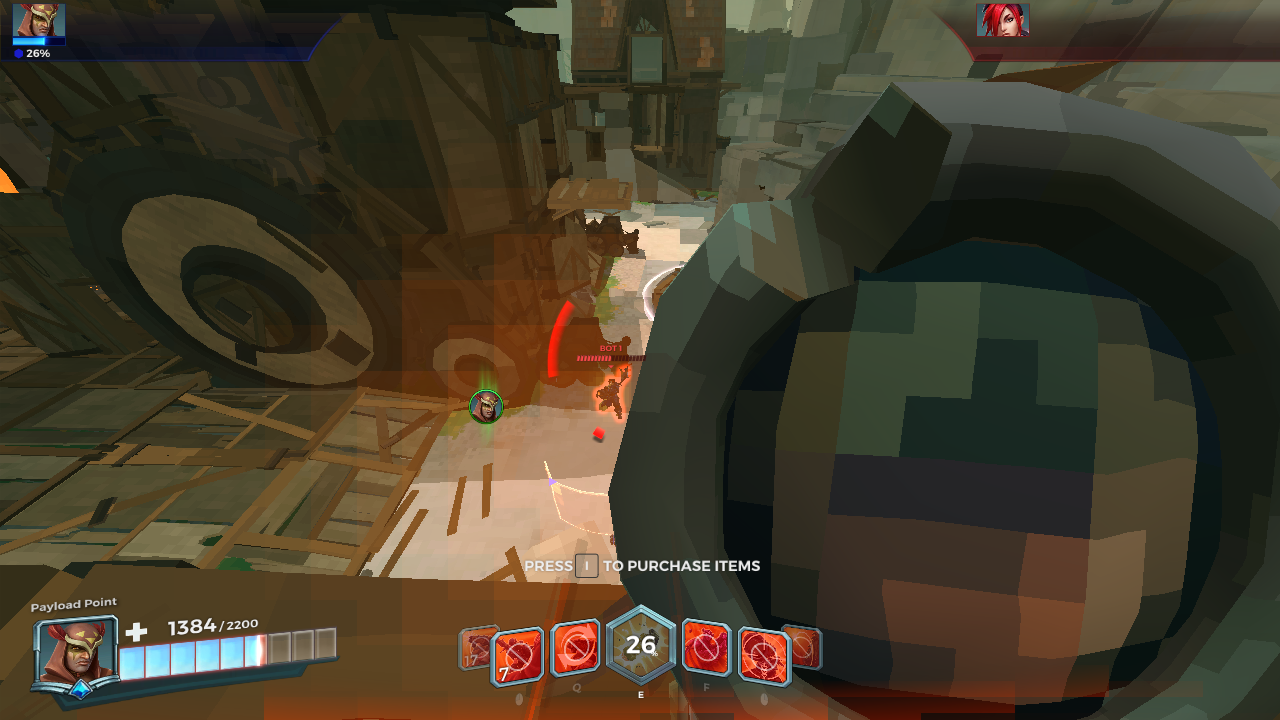model: (595, 372, 629, 428)
